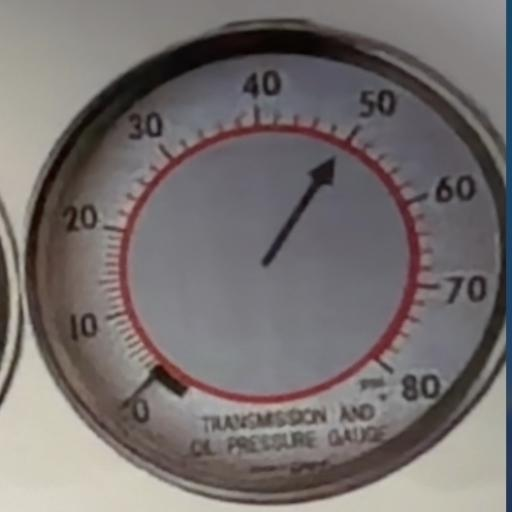needle: (242, 143, 356, 288)
